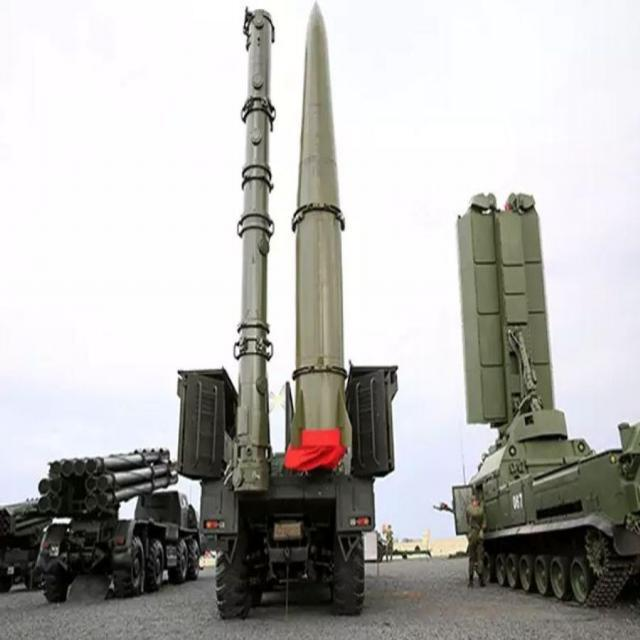Missile: (284, 0, 361, 482)
